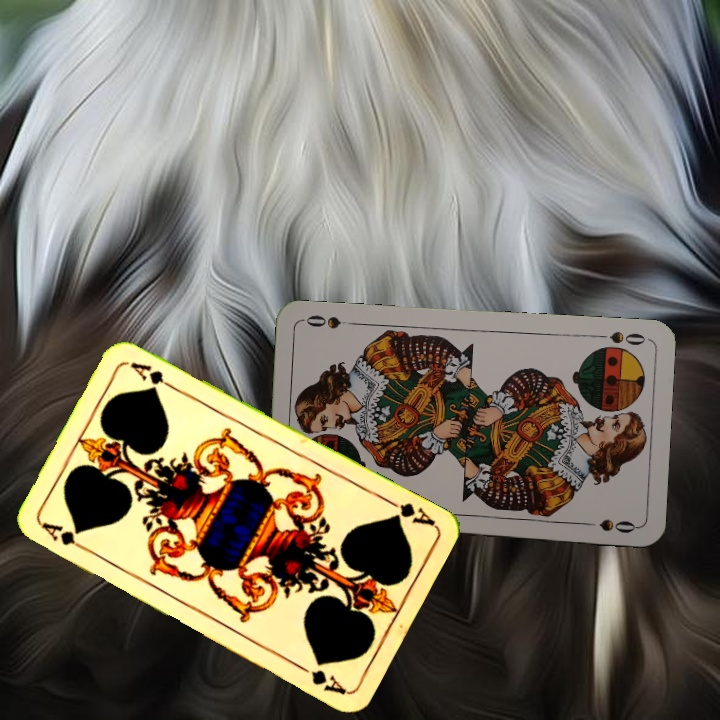GA: (38, 518, 93, 555), (381, 494, 437, 529)
SO: (590, 327, 648, 348)
